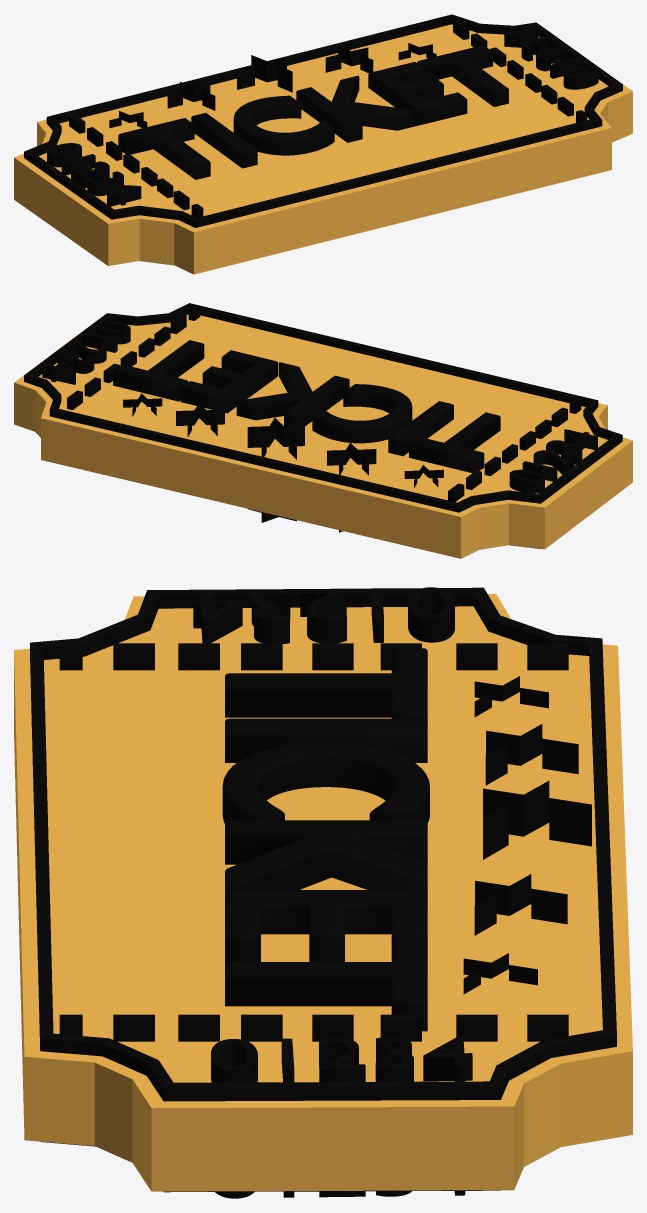
Rendered from ticket-2.glb.
The picture shows the model from 3 angles, top to bottom: view 1: azimuth 30°, elevation 25°; view 2: azimuth 150°, elevation 25°; view 3: azimuth 270°, elevation 25°; orthographic projection. The views are drawn at different scales.
Visible parts, largest first — view 1: Cube.025, Text, Text.002, Text.001; view 2: Cube.025, Text, Text.002, Text.001; view 3: Cube.025, Text, Text.001, Text.002.
Part boxes in pixels (x1=…): Cube.025: x1=14, y1=14, x2=632, y2=274; Text: x1=118, y1=45, x2=508, y2=179; Text.002: x1=504, y1=26, x2=598, y2=89; Text.001: x1=47, y1=143, x2=141, y2=206; Cube.025: x1=14, y1=303, x2=632, y2=558; Text: x1=113, y1=340, x2=500, y2=472; Text.002: x1=42, y1=320, x2=130, y2=384; Text.001: x1=509, y1=429, x2=597, y2=493; Cube.025: x1=14, y1=587, x2=632, y2=1192; Text: x1=222, y1=648, x2=429, y2=1031; Text.001: x1=193, y1=587, x2=454, y2=643; Text.002: x1=211, y1=1036, x2=472, y2=1198.
Bounding box in the file's own units: 4.34 × 0.6501 × 2.21.
2 materials, 1 textured.
